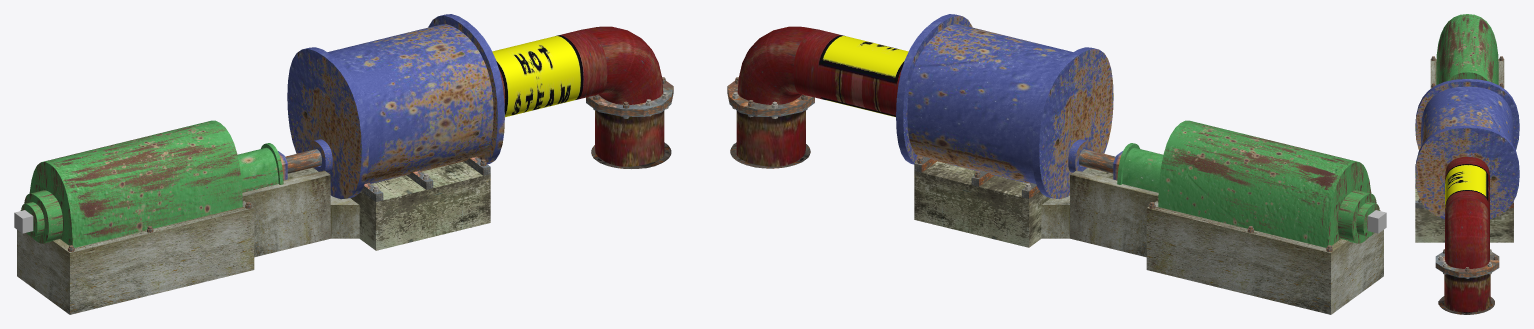
The model's file is pump-a.obj.
3 renders of one model, left to right at view 1: azimuth 30°, elevation 25°; view 2: azimuth 150°, elevation 25°; view 3: azimuth 270°, elevation 25°, orthographic. The views are drawn at different scales.
Parts seen in each view (by area): view 1: entity0_patch67, entity0_patch82, entity0_brush51, entity0_brush32, entity0_patch63, entity0_patch60, entity0_brush55, entity0_patch59, entity0_patch61, entity0_brush52, entity0_patch68, entity0_patch76 (+8 smaller); view 2: entity0_patch67, entity0_patch82, entity0_brush53, entity0_brush32, entity0_patch63, entity0_patch60, entity0_brush56, entity0_patch59, entity0_patch61, entity0_brush52, entity0_patch68, entity0_patch76 (+8 smaller); view 3: entity0_patch65, entity0_patch67, entity0_patch82, entity0_patch59, entity0_patch60, entity0_brush32, entity0_patch61, entity0_patch64, entity0_brush18, entity0_patch62, entity0_patch86, entity0_patch58 (+4 smaller).
Boxes of the visible parts, left/top/right/bottom form: entity0_patch67: left=327, top=24, right=493, bottom=183; entity0_patch82: left=41, top=120, right=242, bottom=247; entity0_brush51: left=70, top=207, right=254, bottom=314; entity0_brush32: left=350, top=161, right=490, bottom=250; entity0_patch63: left=287, top=49, right=361, bottom=199; entity0_patch60: left=492, top=29, right=607, bottom=117; entity0_brush55: left=242, top=170, right=330, bottom=257; entity0_patch59: left=583, top=26, right=663, bottom=104; entity0_patch61: left=595, top=110, right=664, bottom=166; entity0_brush52: left=17, top=230, right=70, bottom=314; entity0_patch68: left=237, top=147, right=278, bottom=192; entity0_patch76: left=29, top=162, right=72, bottom=245; entity0_patch67: left=907, top=24, right=1073, bottom=183; entity0_patch82: left=1158, top=120, right=1359, bottom=247; entity0_brush53: left=1146, top=207, right=1330, bottom=314; entity0_brush32: left=914, top=161, right=1050, bottom=247; entity0_patch63: left=1039, top=49, right=1113, bottom=199; entity0_patch60: left=793, top=29, right=908, bottom=117; entity0_brush56: left=1070, top=170, right=1158, bottom=257; entity0_patch59: left=737, top=26, right=817, bottom=104; entity0_patch61: left=736, top=110, right=805, bottom=166; entity0_brush52: left=1330, top=230, right=1383, bottom=314; entity0_patch68: left=1122, top=147, right=1163, bottom=192; entity0_patch76: left=1328, top=162, right=1371, bottom=245; entity0_patch65: left=1415, top=128, right=1519, bottom=219; entity0_patch67: left=1421, top=86, right=1513, bottom=146; entity0_patch82: left=1436, top=14, right=1498, bottom=84; entity0_patch59: left=1445, top=199, right=1489, bottom=268; entity0_patch60: left=1445, top=156, right=1489, bottom=217; entity0_brush32: left=1415, top=178, right=1513, bottom=242; entity0_patch61: left=1444, top=274, right=1490, bottom=312; entity0_patch64: left=1415, top=81, right=1519, bottom=150; entity0_brush18: left=1435, top=252, right=1499, bottom=277; entity0_patch62: left=1415, top=79, right=1519, bottom=125; entity0_patch86: left=1415, top=125, right=1519, bottom=171; entity0_patch58: left=1438, top=296, right=1494, bottom=314.
Bounding box in the file's own units: 725 × 182 × 144.
